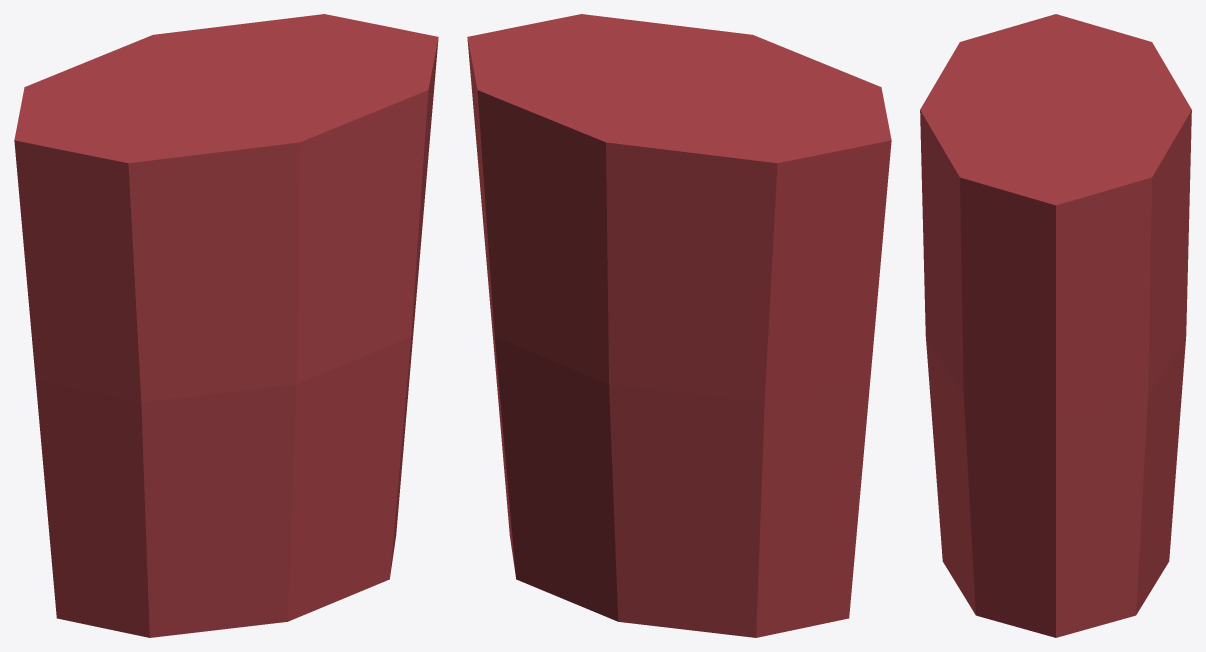
File: wk_muscle_abdomen_v01.glb
3 views of the same model, side by side, from view 1: azimuth 30°, elevation 25°; view 2: azimuth 150°, elevation 25°; view 3: azimuth 270°, elevation 25° (orthographic). The views are drawn at different scales.
Parts seen in each view (by area): view 1: GEO_MuscleAbdomen; view 2: GEO_MuscleAbdomen; view 3: GEO_MuscleAbdomen.
Boxes of the visible parts, x1=… form: GEO_MuscleAbdomen: x1=14, y1=14, x2=438, y2=637; GEO_MuscleAbdomen: x1=467, y1=14, x2=891, y2=637; GEO_MuscleAbdomen: x1=920, y1=14, x2=1191, y2=637.
Size of the model in its own units: 0.4 by 0.44 by 0.24.
